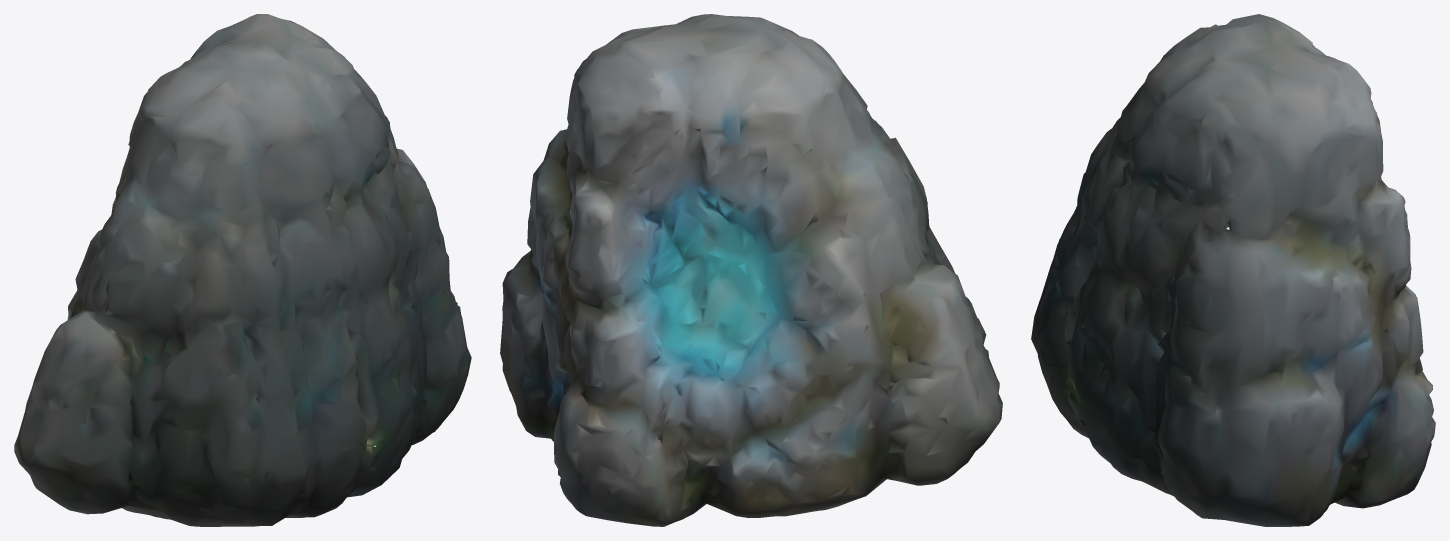
File: media_1787068829583.glb
The picture shows the model from 3 angles, left to right: view 1: azimuth 30°, elevation 25°; view 2: azimuth 150°, elevation 25°; view 3: azimuth 270°, elevation 25°; orthographic projection. The views are drawn at different scales.
Size of the model in its own units: 1.02 by 0.9443 by 0.7902.
